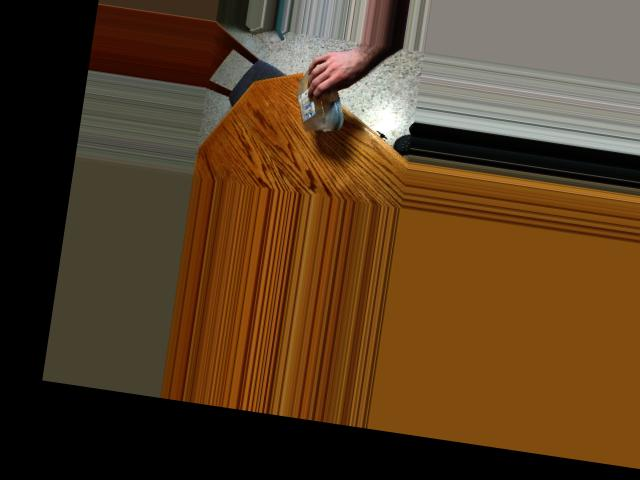cheese: (291, 69, 346, 131)
